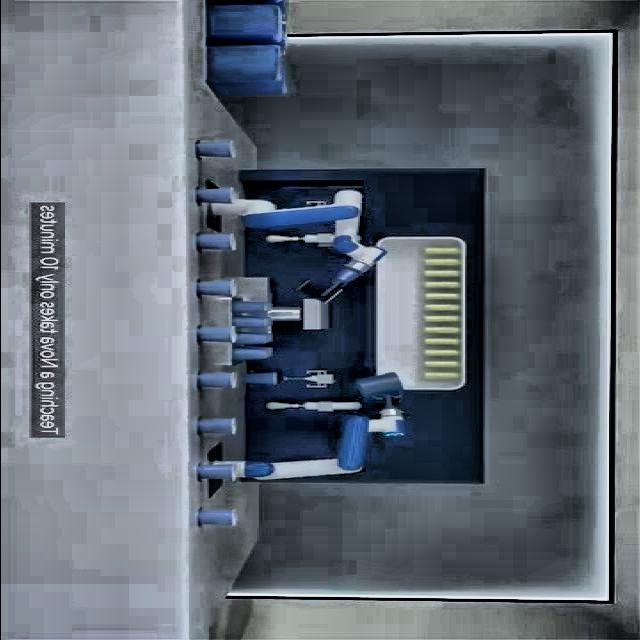robot: (206, 183, 390, 302), (242, 372, 409, 482)
